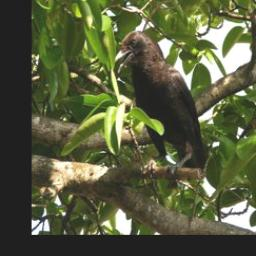Crow: (111, 27, 209, 180)
